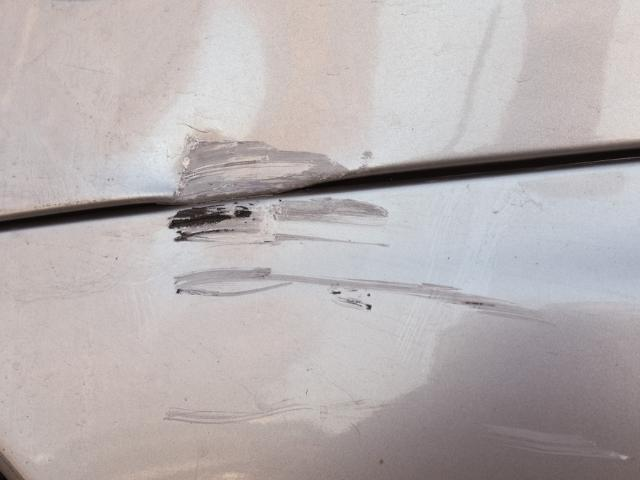Bumper: (142, 196, 554, 371)
Fender: (118, 95, 353, 193)
